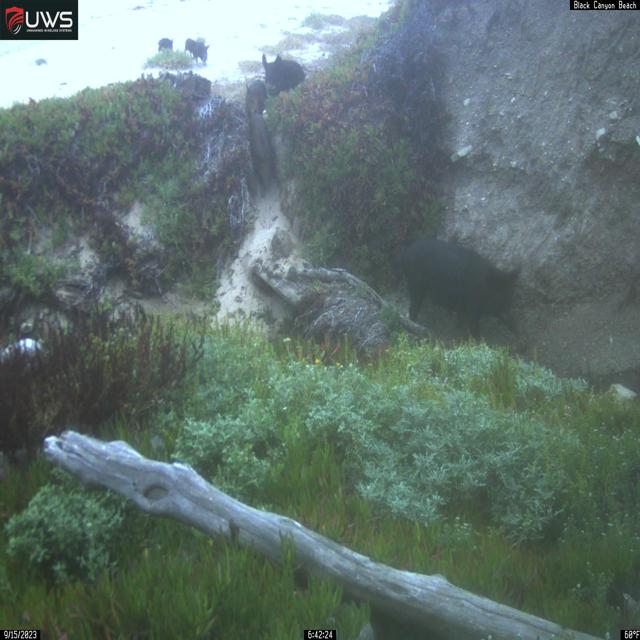pig: (262, 52, 306, 98)
